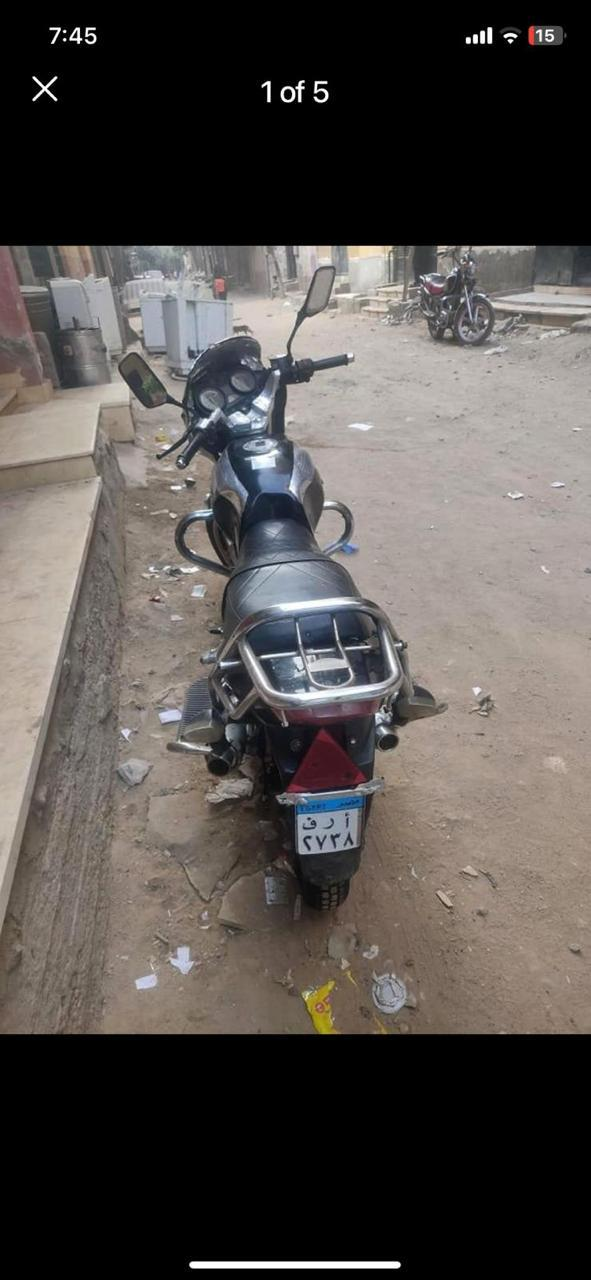License Plate: (297, 793, 364, 854)
